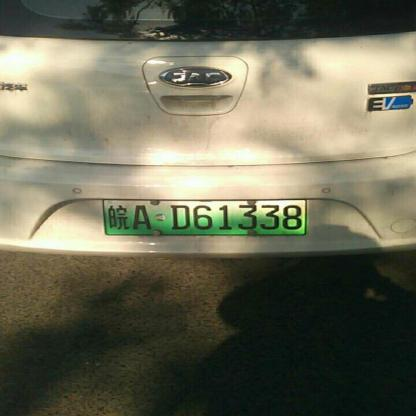lp: (102, 197, 308, 235)
